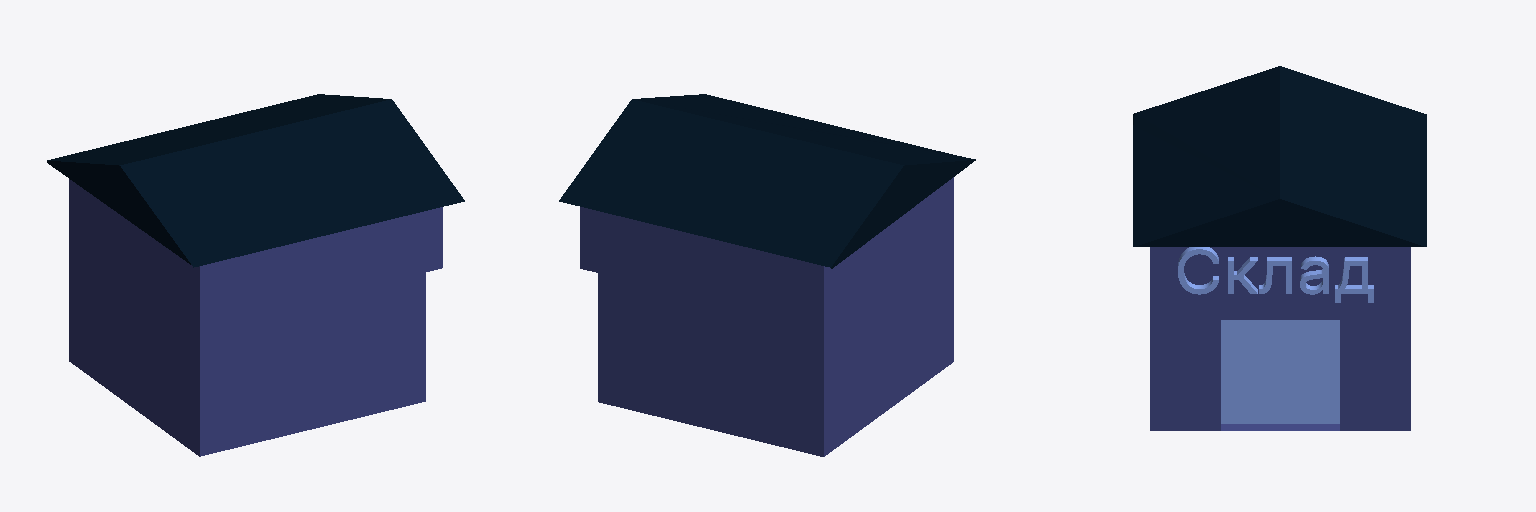
Rendered from Warehouse_building.obj.
3 views of the same model, side by side, from view 1: azimuth 30°, elevation 25°; view 2: azimuth 150°, elevation 25°; view 3: azimuth 270°, elevation 25° (orthographic).
Parts seen in each view (by area): view 1: Cube.002, Cube.003; view 2: Cube.002, Cube.003; view 3: Cube.003, Cube.002, Text.
Boxes of the visible parts, x1,y1,x2,y2 form: Cube.002: [69, 179, 442, 456]; Cube.003: [47, 94, 464, 267]; Cube.002: [580, 177, 953, 456]; Cube.003: [559, 94, 975, 268]; Cube.003: [1133, 66, 1426, 246]; Cube.002: [1150, 247, 1410, 430]; Text: [1178, 247, 1373, 302].
Bounding box in the file's own units: 2.41 × 2.09 × 2.25.